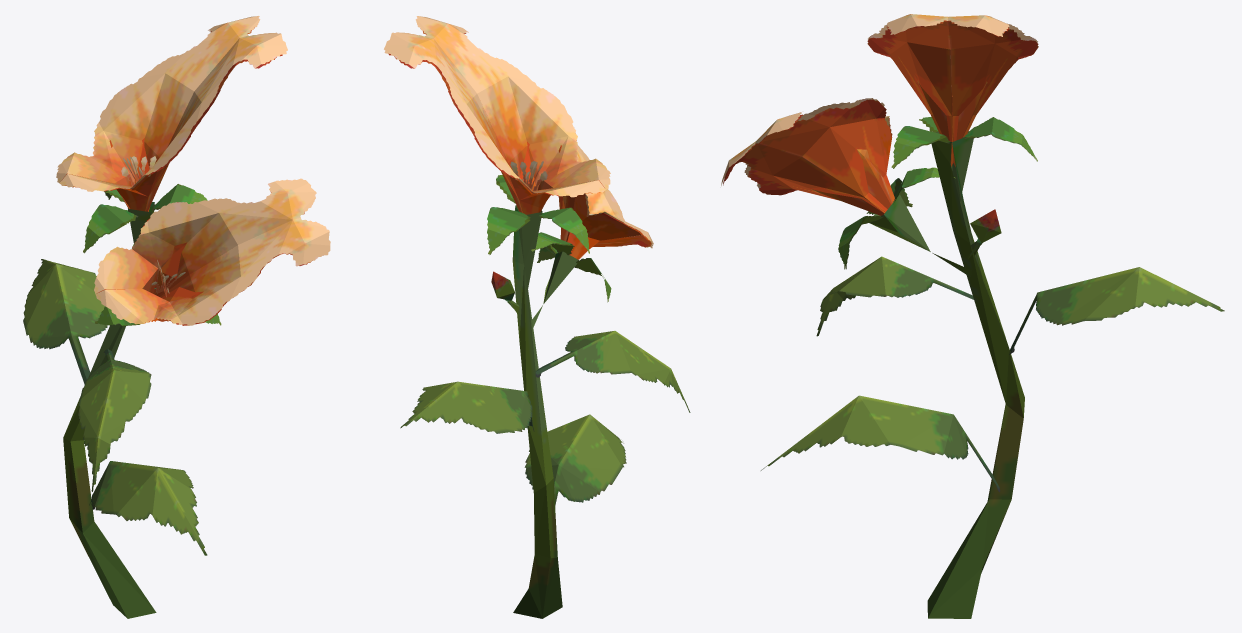
The model's file is gi-Snapdragon01.glb.
3 views of the same model, side by side, from view 1: azimuth 30°, elevation 25°; view 2: azimuth 150°, elevation 25°; view 3: azimuth 270°, elevation 25° (orthographic). The views are drawn at different scales.
Parts seen in each view (by area): view 1: gi-Snapdragon01; view 2: gi-Snapdragon01; view 3: gi-Snapdragon01.
Boxes of the visible parts, box(x1,y1,x2,y2) form: gi-Snapdragon01: box(23, 16, 330, 618); gi-Snapdragon01: box(384, 16, 690, 618); gi-Snapdragon01: box(721, 14, 1224, 618).
Bounding box in the file's own units: 0.3351 × 0.7097 × 0.4927.
1 material, 1 textured.
